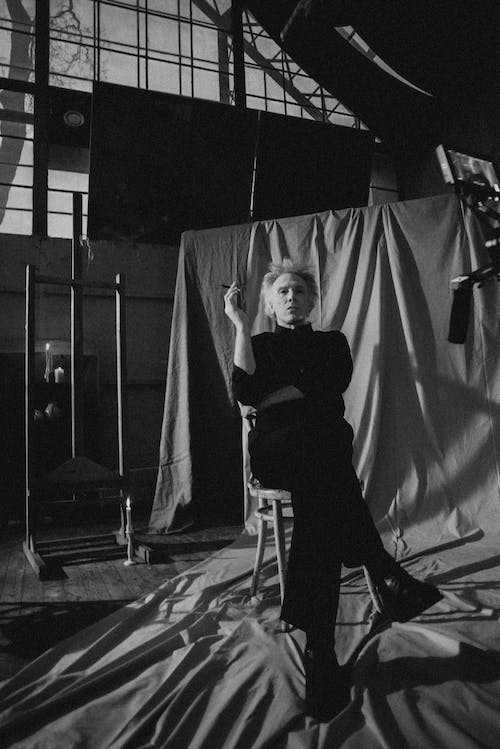cigarette: (217, 280, 243, 293)
